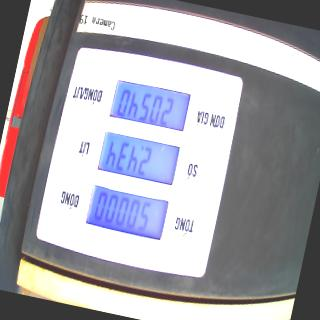screen: (81, 71, 195, 248)
